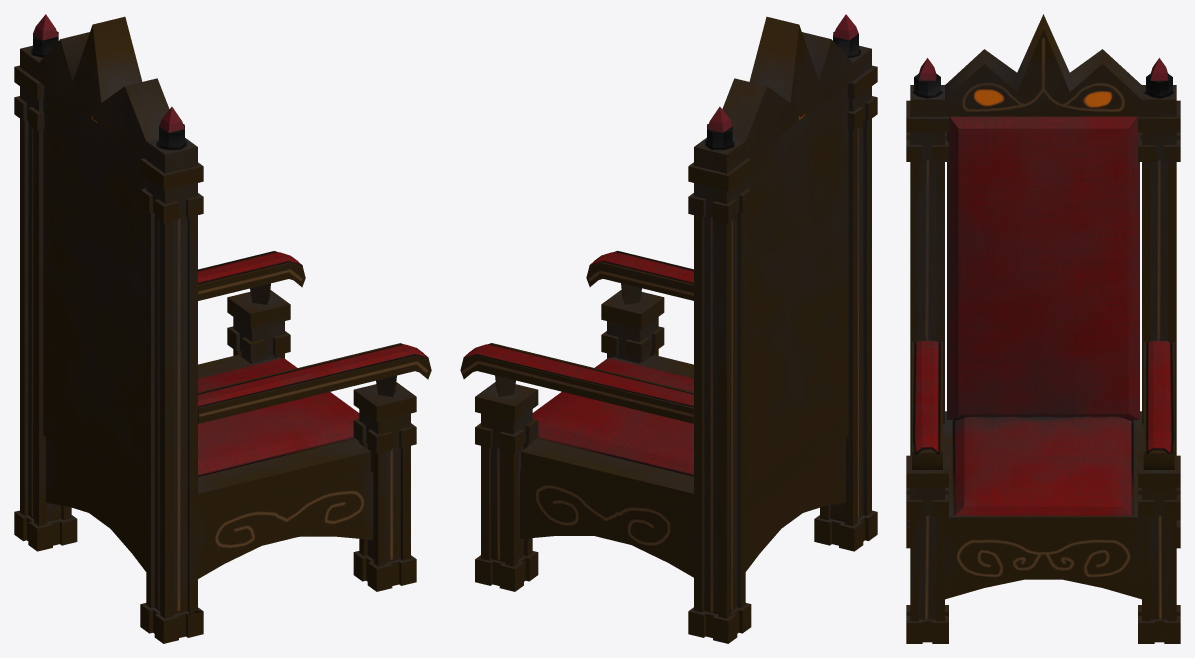
The model's file is throne.glb.
3 views of the same model, side by side, from view 1: azimuth 30°, elevation 25°; view 2: azimuth 150°, elevation 25°; view 3: azimuth 270°, elevation 25° (orthographic). The views are drawn at different scales.
Parts seen in each view (by area): view 1: back_low, leg_low, seat_low, leg2_low, crest_low, leg1_low, support1_low, armrests_low, support2_low, leg3_low, armrests2_low; view 2: back_low, leg2_low, seat_low, leg_low, crest_low, leg3_low, support_low, armrests2_low, support2_low, leg1_low, armrests_low; view 3: back_low, seat_low, crest_low, leg2_low, leg_low, support3_low, leg3_low, leg1_low, armrests2_low, armrests_low.
Part boxes in pixels (x1,y1,x2,y2): back_low: (43, 85, 146, 490); leg_low: (140, 107, 203, 643); seat_low: (43, 354, 370, 514); leg2_low: (14, 14, 77, 551); crest_low: (39, 16, 169, 159); leg1_low: (353, 382, 416, 591); support1_low: (198, 471, 373, 578); armrests_low: (198, 343, 431, 423); support2_low: (46, 437, 146, 571); leg3_low: (227, 290, 290, 363); armrests2_low: (198, 251, 305, 304); back_low: (745, 85, 848, 489); leg2_low: (688, 106, 751, 643); seat_low: (521, 354, 848, 514); leg_low: (814, 14, 877, 551); crest_low: (722, 16, 852, 159); leg3_low: (475, 382, 538, 591); support_low: (520, 470, 693, 577); armrests2_low: (460, 343, 693, 423); support2_low: (745, 437, 845, 571); leg1_low: (601, 290, 664, 363); armrests_low: (586, 250, 693, 304); back_low: (947, 116, 1139, 419); seat_low: (943, 411, 1143, 536); crest_low: (945, 14, 1141, 116); leg2_low: (1138, 58, 1180, 548); leg_low: (906, 58, 948, 548); support3_low: (945, 536, 1141, 599); leg3_low: (1138, 455, 1180, 643); leg1_low: (906, 455, 948, 643); armrests2_low: (1143, 341, 1174, 469); armrests_low: (912, 341, 942, 469).
Bounding box in the file's own units: 129 × 255 × 122.
Materials: 1 (1 with a texture image).
